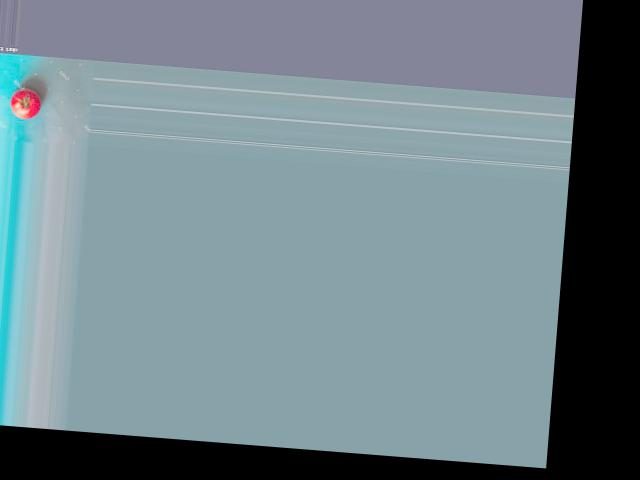tomato: (9, 86, 42, 120)
